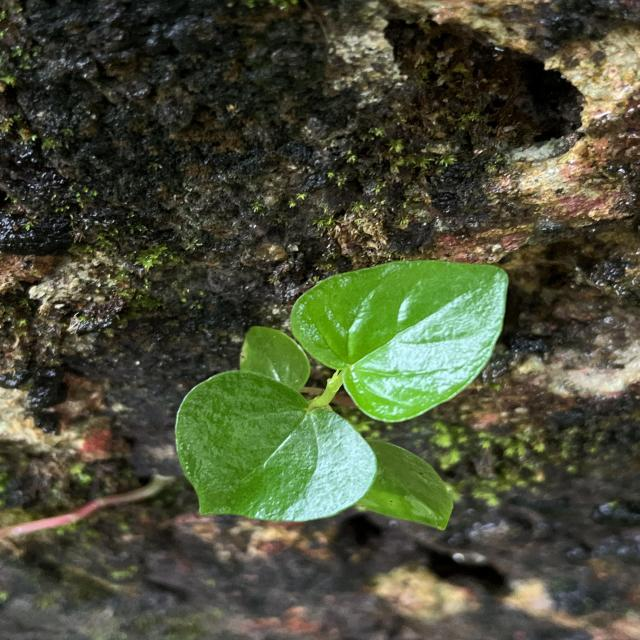Peperomia pellucida: (288, 258, 512, 426), (172, 369, 380, 524)
